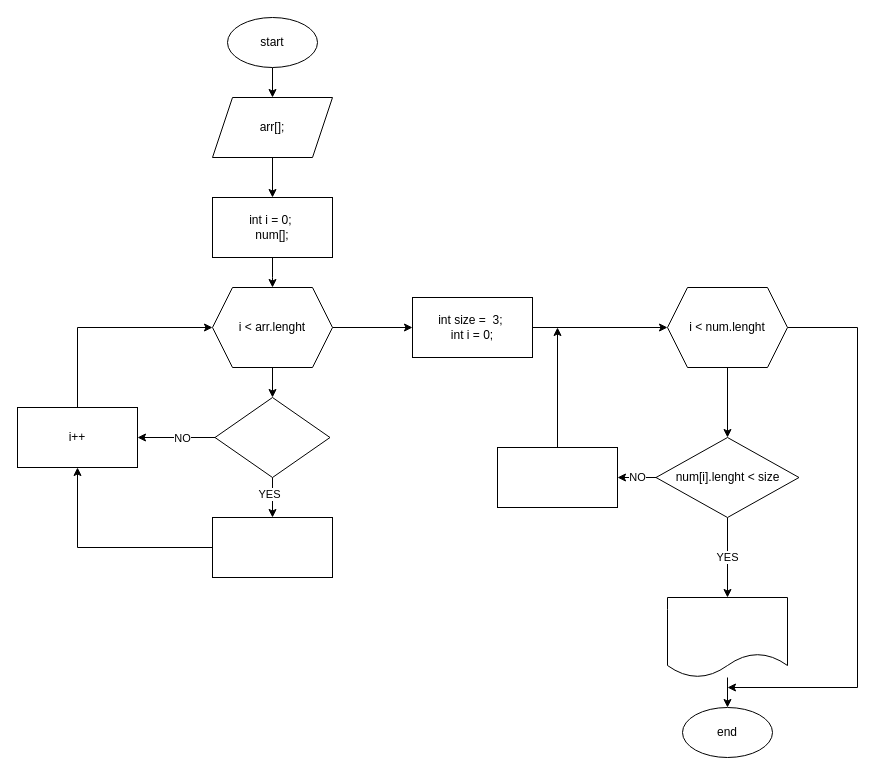
Some shapes in this 883 by 775 pixel diagram are drawn without their labels. Each missing label, with the box of its shape:
arr[i] != " " && ", ": (214, 396, 330, 478)
i++;: (496, 446, 618, 508)
num[i]: (666, 596, 788, 678)
num[i] = arr [i];: (212, 516, 332, 578)
